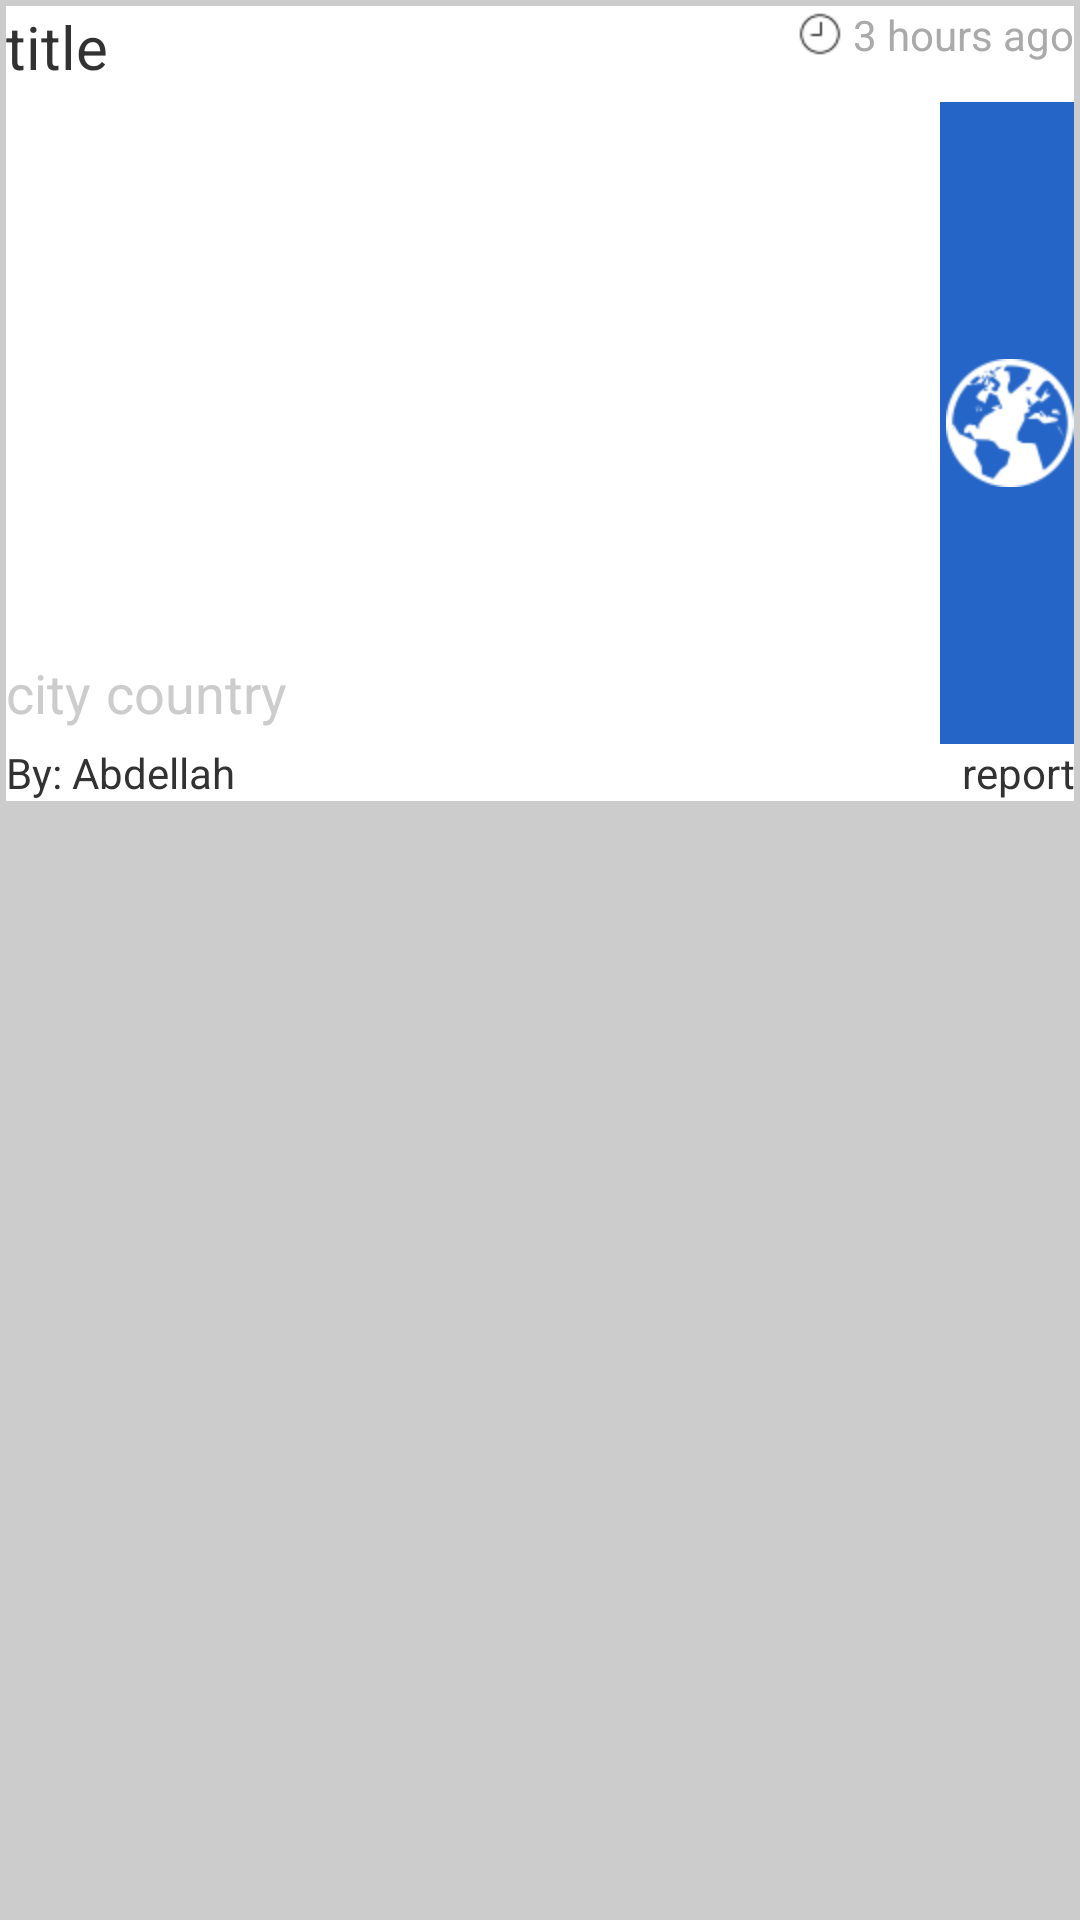

Icon click points for this 1080 × 1920 phone screenshot, format point (x, y):
clock: point (820, 34)
